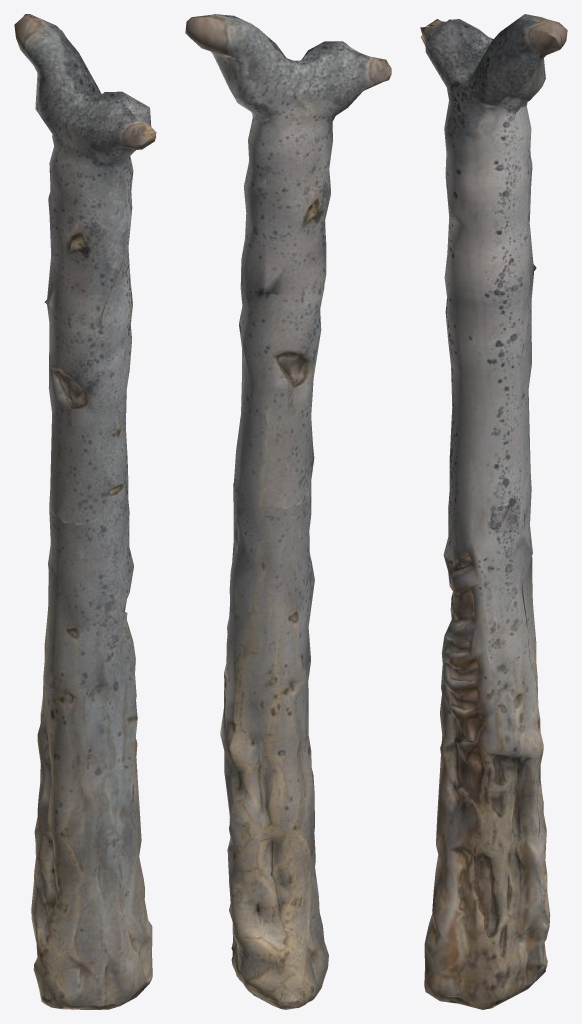
The model's file is dead_trunk.glb.
3 renders of one model, left to right at view 1: azimuth 90°, elevation 25°; view 2: azimuth 150°, elevation 25°; view 3: azimuth 270°, elevation 25°, orthographic. The views are drawn at different scales.
Parts seen in each view (by area): view 1: dead_quiver_trunk_LOD0; view 2: dead_quiver_trunk_LOD0; view 3: dead_quiver_trunk_LOD0.
Boxes of the visible parts, bbox=[...] form: dead_quiver_trunk_LOD0: bbox=[14, 14, 156, 1009]; dead_quiver_trunk_LOD0: bbox=[185, 14, 391, 1009]; dead_quiver_trunk_LOD0: bbox=[420, 14, 567, 1009].
Size of the model in its own units: 0.3069 by 1.99 by 0.2672.
1 material, 1 textured.
